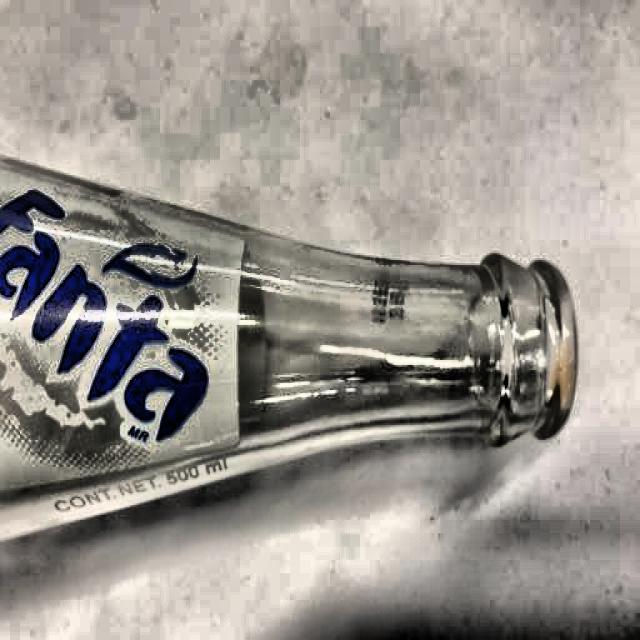glass: (0, 145, 578, 520)
